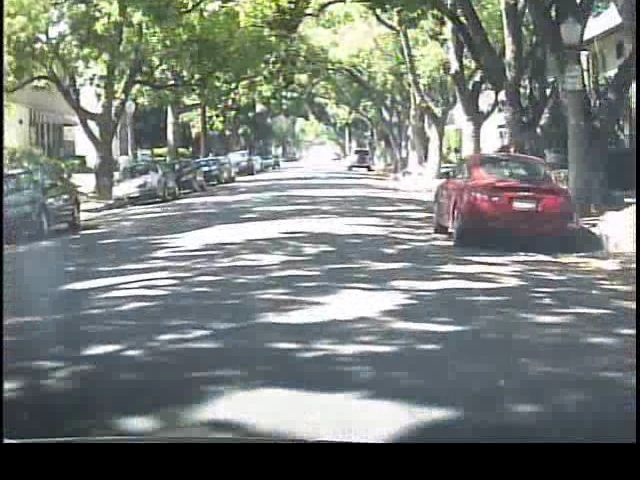person: (115, 146, 138, 195)
